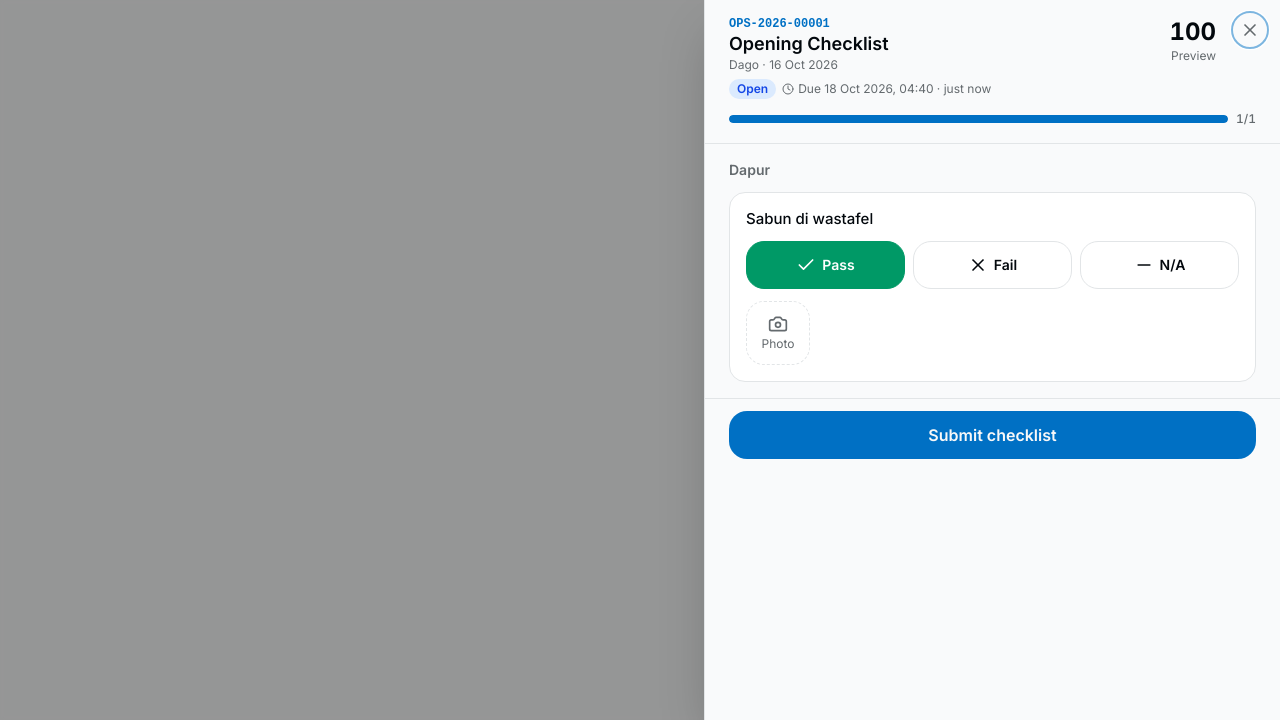
Test: ChecklistRunner › submits and shows the score
Click the button "Submit checklist".
click(992, 435)  # box left=729, top=411, right=1256, bottom=459
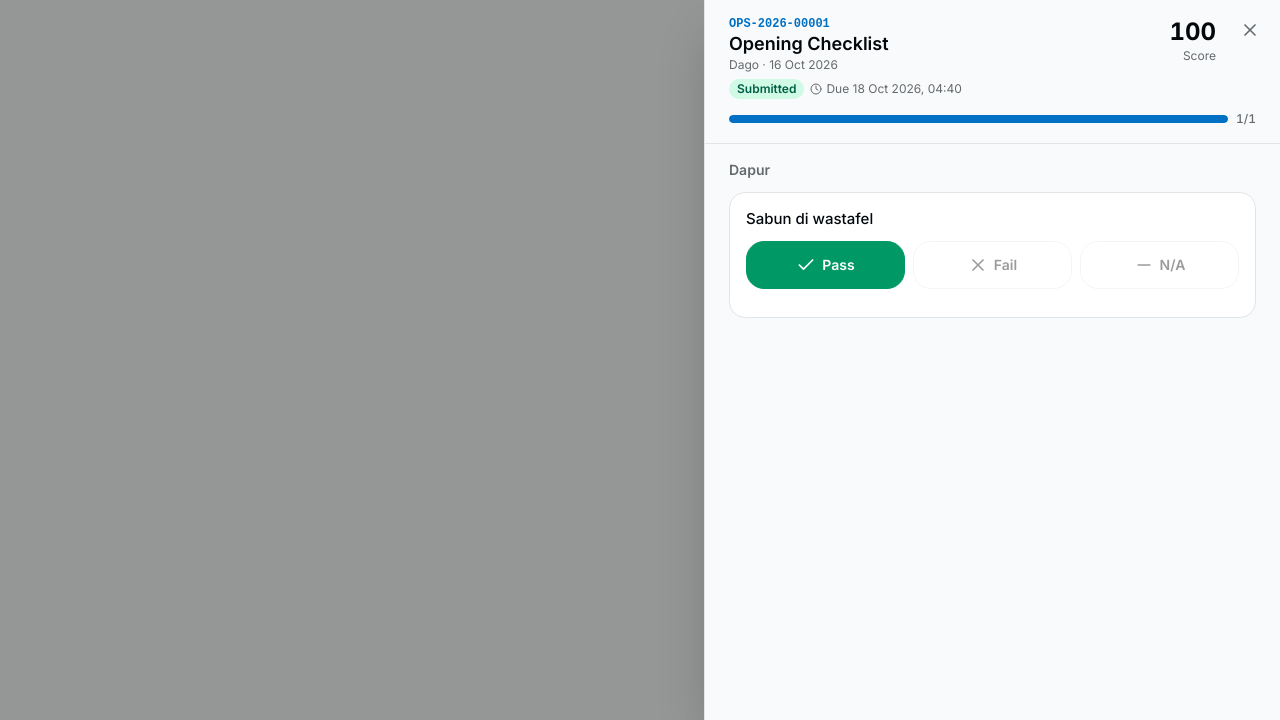
Check: the text "100" is shown, box left=1170, top=16, right=1216, bottom=48
Check: the button "Submit checklist" is gone
